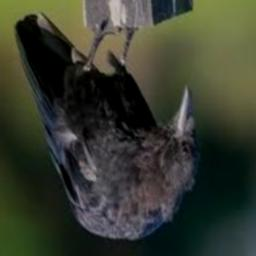Crow: (13, 12, 198, 241)
